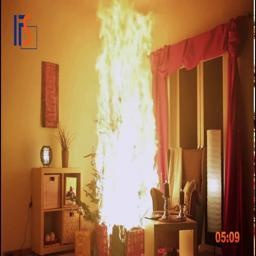fire: (76, 2, 170, 232)
